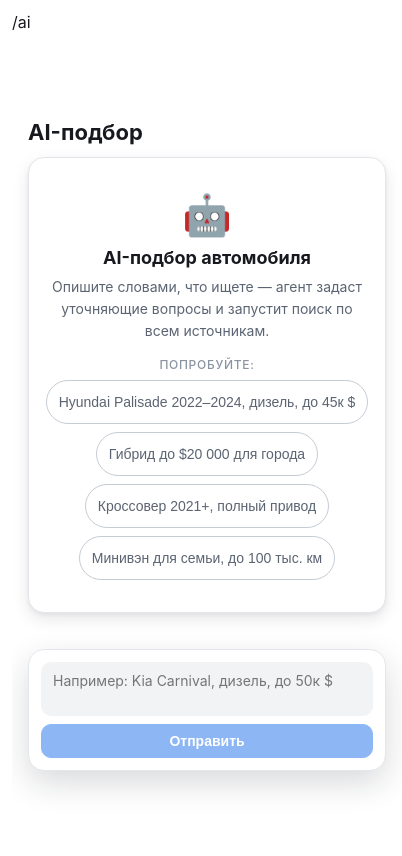
it: AiSearch: ошибки агента по маппингу 03 §3.2 › 503 → «AI-агент отдыхает» + фолбэк «Настроить уведомления вручную» → /filters
Step 1. Click the button "Минивэн для семьи, до 100 тыс. км" → (207, 558), box [79, 536, 335, 580]
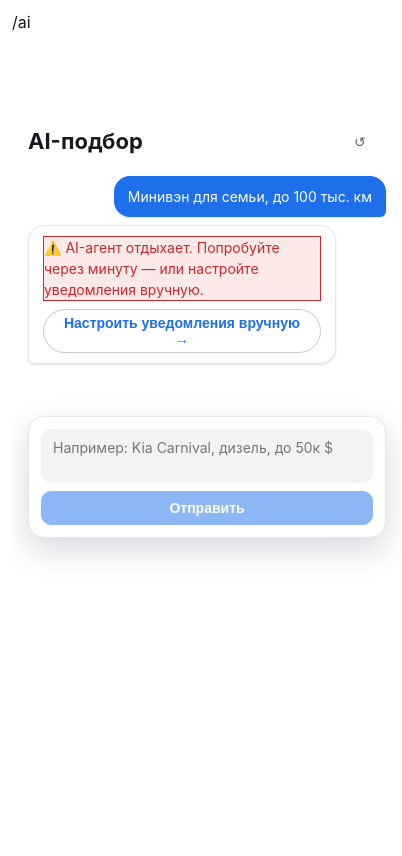
Expected: the text "AI-агент отдыхает" is shown, [44, 239, 284, 298]
Step 2. Click the button "Настроить уведомления вручную →" → (182, 331), box [43, 309, 321, 353]
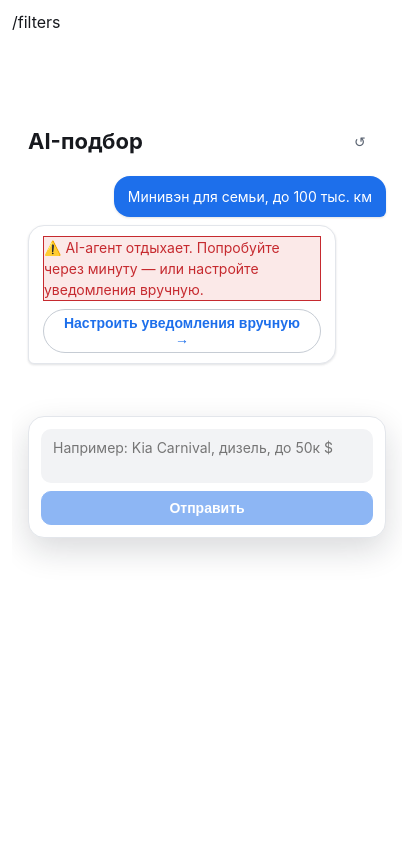
Expected: the text with test id "loc" reads "/filters", [12, 12, 60, 32]
